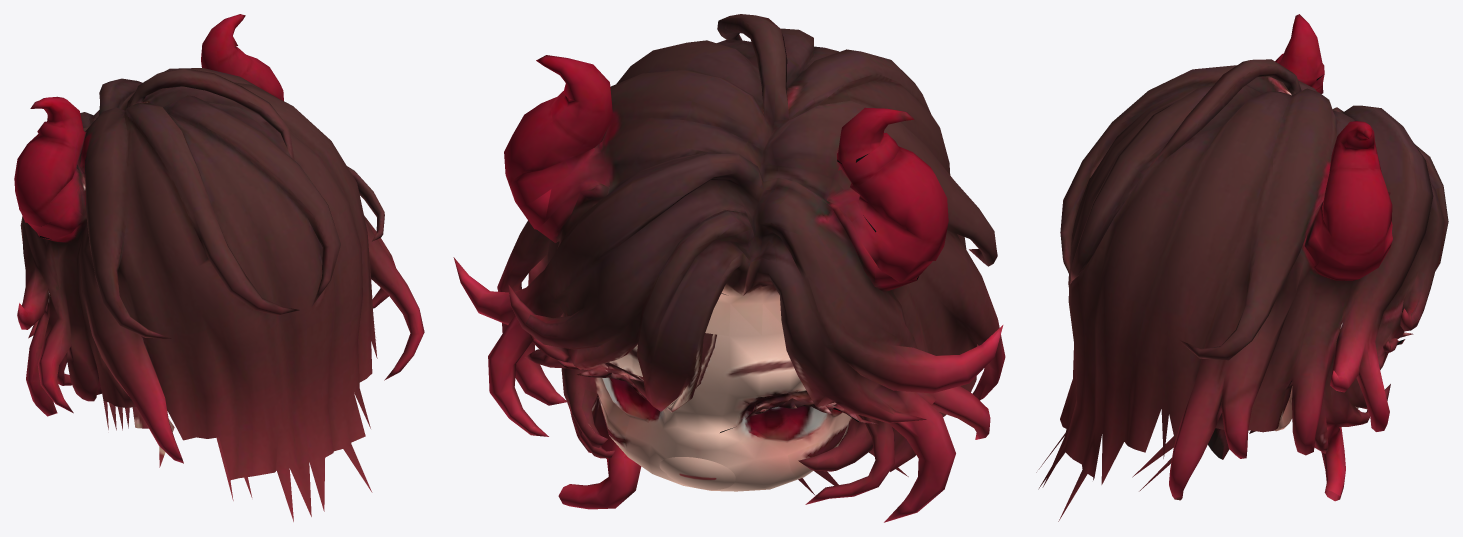
File: Costume_HornsMageF_HeadExpressions_R15.glb
3 renders of one model, left to right at view 1: azimuth 30°, elevation 25°; view 2: azimuth 150°, elevation 25°; view 3: azimuth 270°, elevation 25°, orthographic. The views are drawn at different scales.
Parts seen in each view (by area): view 1: HeadBase; view 2: HeadBase, FaceExpression; view 3: HeadBase.
Part boxes in pixels (x1,y1,x2,y2): HeadBase: [14, 14, 424, 521]; HeadBase: [453, 14, 1005, 522]; FaceExpression: [563, 304, 867, 491]; HeadBase: [1036, 14, 1448, 521].
Bounding box in the file's own units: 2.53 × 2.54 × 2.24.
Materials: 2 (2 with a texture image).
